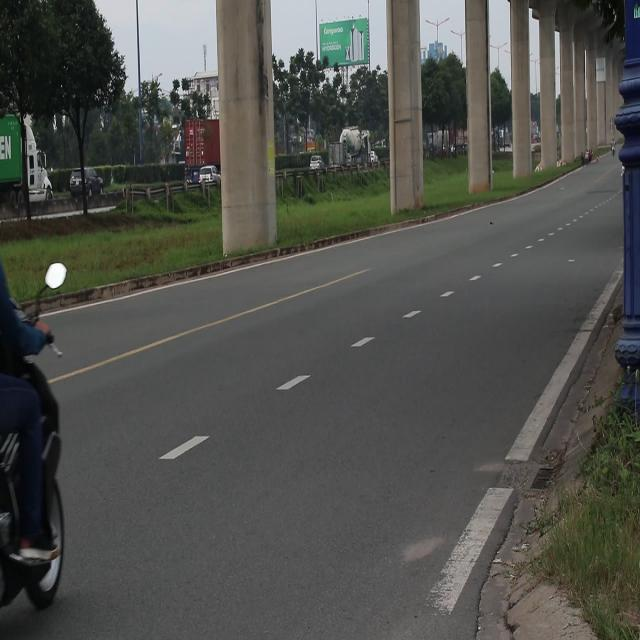car: (59, 168, 104, 200), (193, 166, 220, 185), (309, 150, 325, 179)
motorbike: (0, 294, 70, 624)
truck: (0, 113, 54, 206), (173, 121, 220, 184), (20, 132, 54, 204), (322, 138, 348, 176)
